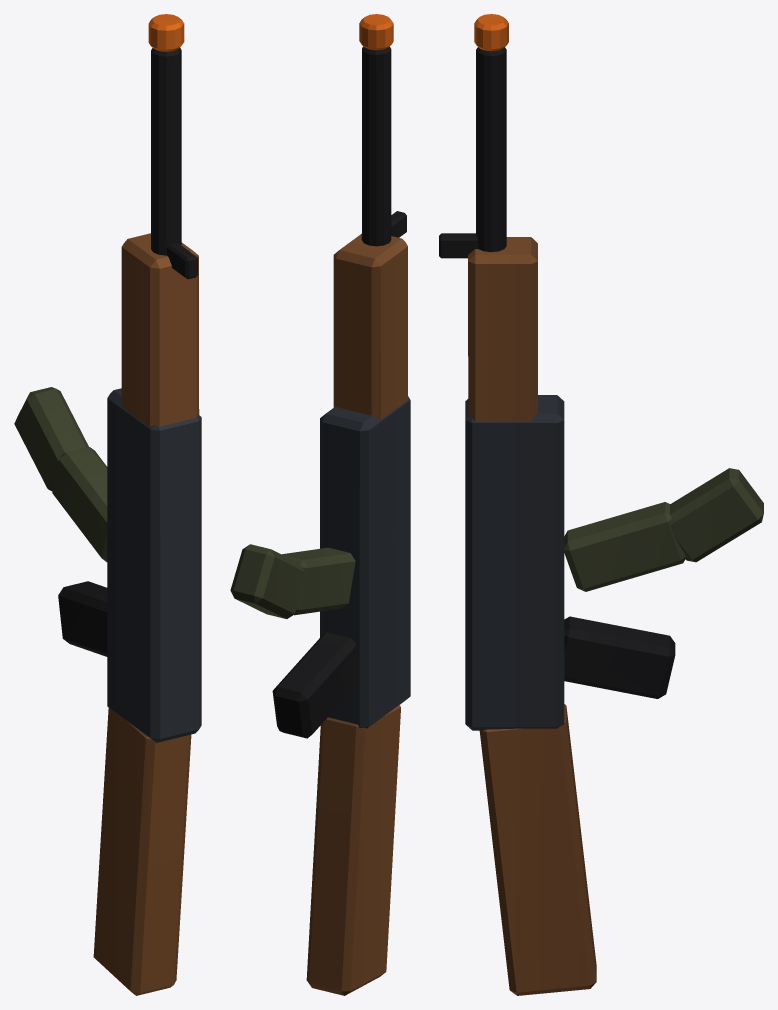
The picture shows the model from 3 angles, left to right: view 1: azimuth 30°, elevation 25°; view 2: azimuth 150°, elevation 25°; view 3: azimuth 270°, elevation 25°; orthographic projection. The views are drawn at different scales.
Visible parts, largest first — view 1: k47; view 2: k47; view 3: k47.
Boxes of the visible parts, x1=… form: k47: x1=14, y1=14, x2=201, y2=995; k47: x1=230, y1=14, x2=410, y2=995; k47: x1=439, y1=14, x2=763, y2=995.
Bounding box in the file's own units: 0.05 × 0.9167 × 0.2788.
